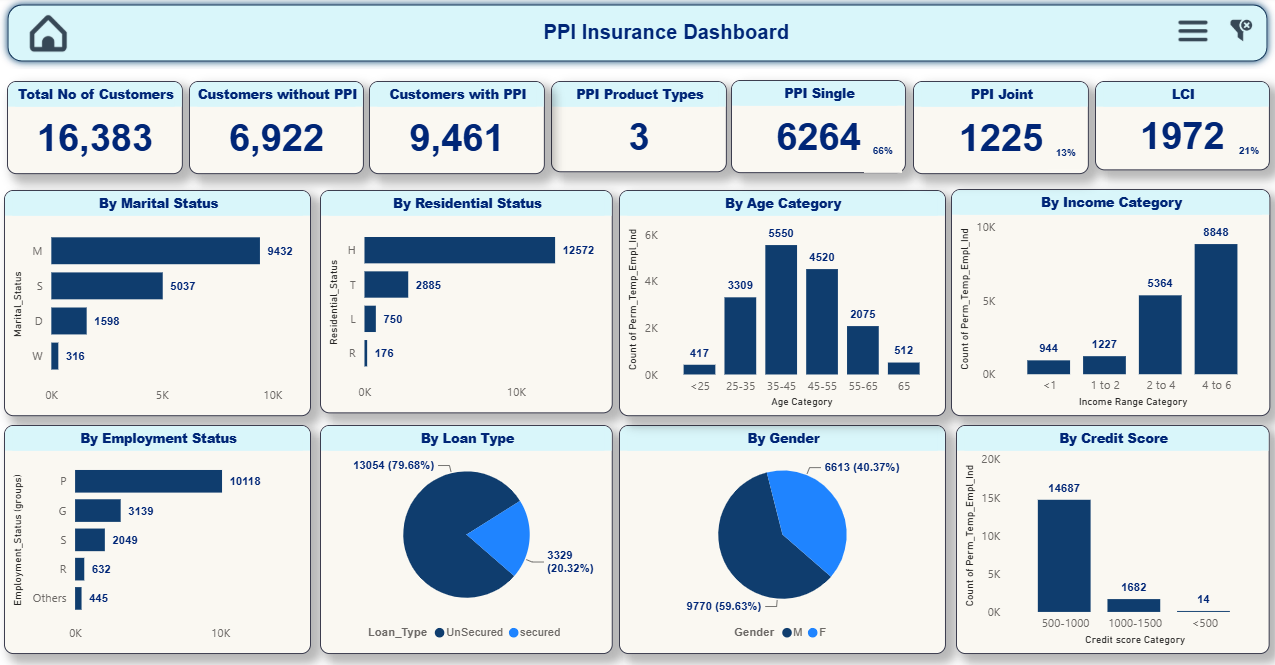

The dashboard page shown, as its layout file describes it:
{"tool":"powerbi","page":{"name":"Dashboard","canvas":[1350,720],"ordinal":1},"visuals":[{"type":"card","title":"Total No of Customers","fields":{"Values":["CountNonNull(Data.Perm_Temp_Empl_Ind)"]},"box":[7.6,88.7,185.1,97.6],"z":0},{"type":"card","title":"PPI Product Types","fields":{"Values":["Count(Data.category)"]},"box":[579.3,88.7,185.1,96.3],"z":1000},{"type":"card","title":"Customers without PPI","fields":{"Values":["CountNonNull(Data.Perm_Temp_Empl_Ind)"]},"box":[198.4,88.1,184.1,97.9],"z":2000},{"type":"card","title":"Customers with PPI","fields":{"Values":["CountNonNull(Data.Perm_Temp_Empl_Ind)"]},"box":[388.5,88.1,185.2,97.9],"z":3000},{"type":"shape","box":[0,0,1341.6,75.8],"z":4000,"group":"g5"},{"type":"card","title":"PPI Joint","fields":{"Values":["Sum(Data.PPI_JOINT)"]},"box":[961,88.1,185.2,97.9],"z":4000,"group":"g3"},{"type":"clusteredBarChart","title":"By Marital Status","fields":{"Category":["Data.Marital_Status"],"Y":["CountNonNull(Data.Perm_Temp_Empl_Ind)"]},"box":[3.8,202.8,323.2,238.3],"z":4000},{"type":"textbox","box":[499.2,19.7,404.6,44.3],"z":5000,"group":"g5"},{"type":"card","title":"LCI","fields":{"Values":["Sum(Data.PPI_LCI)"]},"box":[1152.3,88.7,183.8,93.8],"z":5000,"group":"g4"},{"type":"clusteredBarChart","title":"By Residential Status","fields":{"Category":["Data.Residential_Status"],"Y":["CountNonNull(Data.Perm_Temp_Empl_Ind)"]},"box":[336.7,203.1,308.3,234.6],"z":5000},{"type":"card","title":"PPI Single","fields":{"Values":["Sum(Data.PPI_SINGLE)"]},"box":[769.2,87.3,184.1,97.9],"z":6000,"group":"g2"},{"type":"clusteredBarChart","title":"By Employment Status","fields":{"Y":["CountNonNull(Data.Perm_Temp_Empl_Ind)"],"Category":["Data.Employment_Status (groups)"]},"box":[4.2,450.4,323,241],"z":6000},{"type":"pieChart","title":"By Loan Type","fields":{"Category":["Data.Loan_Type"],"Y":["CountNonNull(Data.Perm_Temp_Empl_Ind)"]},"box":[336.7,450.4,308.3,241],"z":7000},{"type":"pieChart","title":"By Gender","fields":{"Category":["Data.Gender"],"Y":["CountNonNull(Data.Perm_Temp_Empl_Ind)"]},"box":[651.3,450.4,344.1,241],"z":8000},{"type":"columnChart","title":"By Age Category","fields":{"Category":["Data.Age Category"],"Y":["CountNonNull(Data.Perm_Temp_Empl_Ind)"]},"box":[651.5,202.8,343.5,238.3],"z":9000},{"type":"columnChart","title":"By Income Category","fields":{"Y":["CountNonNull(Data.Perm_Temp_Empl_Ind)"],"Category":["Data.Income Range Category"]},"box":[1000.3,202.4,335.8,239.1],"z":10000},{"type":"group","id":"g1","title":"Group 2","box":[0,0,1341.6,75.8],"z":11000},{"type":"image","box":[23.1,10.5,53.7,53.7],"z":12000},{"type":"image","box":[1233.2,10.5,44.2,50.5],"z":13000},{"type":"image","box":[1285.8,17.9,40,33.7],"z":14000},{"type":"columnChart","title":"By Credit Score","fields":{"Y":["CountNonNull(Data.Perm_Temp_Empl_Ind)"],"Category":["Data.Credit score Category"]},"box":[1005.7,450.4,329.6,240.9],"z":15000},{"type":"group","id":"g2","title":"Group 3","box":[769.2,87.3,184.1,97.9],"z":16000},{"type":"group","id":"g3","title":"Group 4","box":[961,88.1,185.2,97.9],"z":17000},{"type":"group","id":"g4","title":"Group 5","box":[1152.3,88.7,183.8,93.8],"z":18000},{"type":"card","fields":{"Values":["Data.Single PPI %"]},"box":[909.6,141.6,39.6,43.2],"z":19000,"group":"g2"},{"type":"card","fields":{"Values":["Data.Joint PPI %"]},"box":[1103.3,151.3,37.6,29.6],"z":19001,"group":"g3"},{"type":"card","fields":{"Values":["Data.LCI  PPI %"]},"box":[1294.8,150.1,40.2,28.3],"z":19002,"group":"g4"},{"type":"group","id":"g5","title":"Group 1","box":[0,0,1341.6,75.8],"z":26000,"group":"g1"}]}

Visuals, with their boxes in screenshot pixels (x1, y1, x2, y2), scaled from the page's 1350x720 canvas onto the 1275x665 screenshot:
"Total No of Customers" card: (left=7, top=82, right=182, bottom=172)
"PPI Product Types" card: (left=547, top=82, right=722, bottom=171)
"Customers without PPI" card: (left=187, top=81, right=361, bottom=172)
"Customers with PPI" card: (left=367, top=81, right=542, bottom=172)
shape: (left=0, top=0, right=1267, bottom=70)
"PPI Joint" card: (left=908, top=81, right=1083, bottom=172)
"By Marital Status" clusteredBarChart: (left=4, top=187, right=309, bottom=407)
textbox: (left=471, top=18, right=854, bottom=59)
"LCI" card: (left=1088, top=82, right=1262, bottom=169)
"By Residential Status" clusteredBarChart: (left=318, top=188, right=609, bottom=404)
"PPI Single" card: (left=726, top=81, right=900, bottom=171)
"By Employment Status" clusteredBarChart: (left=4, top=416, right=309, bottom=639)
"By Loan Type" pieChart: (left=318, top=416, right=609, bottom=639)
"By Gender" pieChart: (left=615, top=416, right=940, bottom=639)
"By Age Category" columnChart: (left=615, top=187, right=940, bottom=407)
"By Income Category" columnChart: (left=945, top=187, right=1262, bottom=408)
"Group 2" group: (left=0, top=0, right=1267, bottom=70)
image: (left=22, top=10, right=73, bottom=59)
image: (left=1165, top=10, right=1206, bottom=56)
image: (left=1214, top=17, right=1252, bottom=48)
"By Credit Score" columnChart: (left=950, top=416, right=1261, bottom=638)
"Group 3" group: (left=726, top=81, right=900, bottom=171)
"Group 4" group: (left=908, top=81, right=1083, bottom=172)
"Group 5" group: (left=1088, top=82, right=1262, bottom=169)
card - Data.Single PPI %: (left=859, top=131, right=896, bottom=171)
card - Data.Joint PPI %: (left=1042, top=140, right=1078, bottom=167)
card - Data.LCI  PPI %: (left=1223, top=139, right=1261, bottom=165)
"Group 1" group: (left=0, top=0, right=1267, bottom=70)
